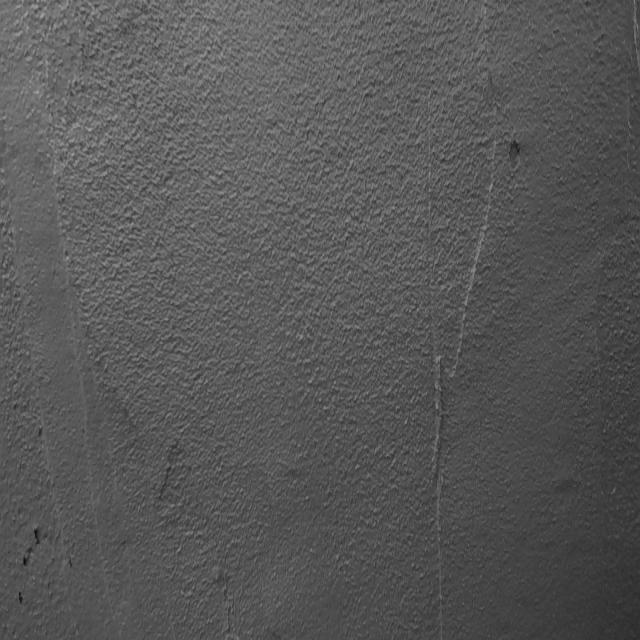trowels marks: (424, 85, 499, 636)
